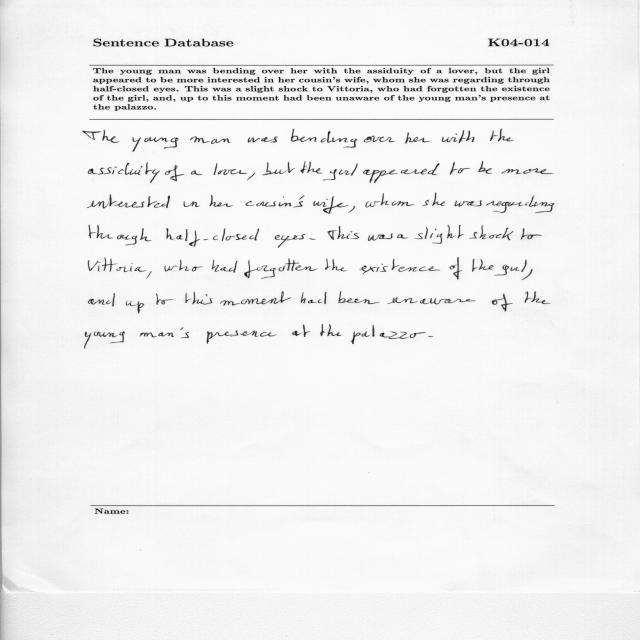word: (167, 229, 260, 247), (363, 163, 440, 183), (89, 162, 161, 183), (244, 259, 318, 279), (351, 325, 426, 344), (88, 258, 152, 279), (89, 225, 152, 246), (291, 129, 357, 148), (87, 194, 170, 209), (359, 259, 440, 274), (486, 196, 554, 213), (220, 291, 291, 306), (207, 330, 277, 344), (414, 225, 464, 244), (365, 193, 415, 208), (85, 331, 125, 349), (246, 196, 305, 208), (133, 137, 179, 152), (313, 196, 349, 214), (387, 298, 476, 305), (469, 226, 513, 240), (323, 163, 358, 180), (140, 327, 190, 338), (494, 260, 527, 276), (83, 129, 119, 143), (338, 292, 380, 304), (327, 226, 359, 240), (275, 234, 306, 248), (442, 130, 475, 143), (262, 162, 295, 175), (214, 163, 247, 175), (492, 294, 513, 312), (88, 294, 115, 307), (185, 292, 212, 305), (212, 260, 238, 273), (190, 136, 231, 144), (165, 165, 184, 182), (502, 168, 554, 174), (301, 292, 327, 304), (525, 292, 551, 304), (405, 132, 430, 144), (490, 129, 514, 141), (210, 195, 234, 207), (179, 260, 203, 272), (301, 161, 323, 174), (423, 193, 445, 206), (450, 258, 463, 280), (472, 259, 494, 272), (325, 259, 347, 271), (320, 324, 342, 336), (450, 162, 470, 175), (521, 229, 542, 240), (364, 136, 395, 143), (292, 325, 310, 337), (248, 136, 278, 143), (368, 233, 393, 241), (156, 294, 174, 305), (478, 161, 493, 174), (455, 201, 482, 207), (522, 269, 533, 280), (183, 201, 200, 207), (138, 301, 145, 313), (165, 266, 178, 272), (247, 173, 255, 181), (191, 170, 202, 175), (397, 234, 408, 239), (126, 301, 137, 306), (349, 206, 355, 213), (310, 238, 316, 240), (429, 336, 434, 337)
